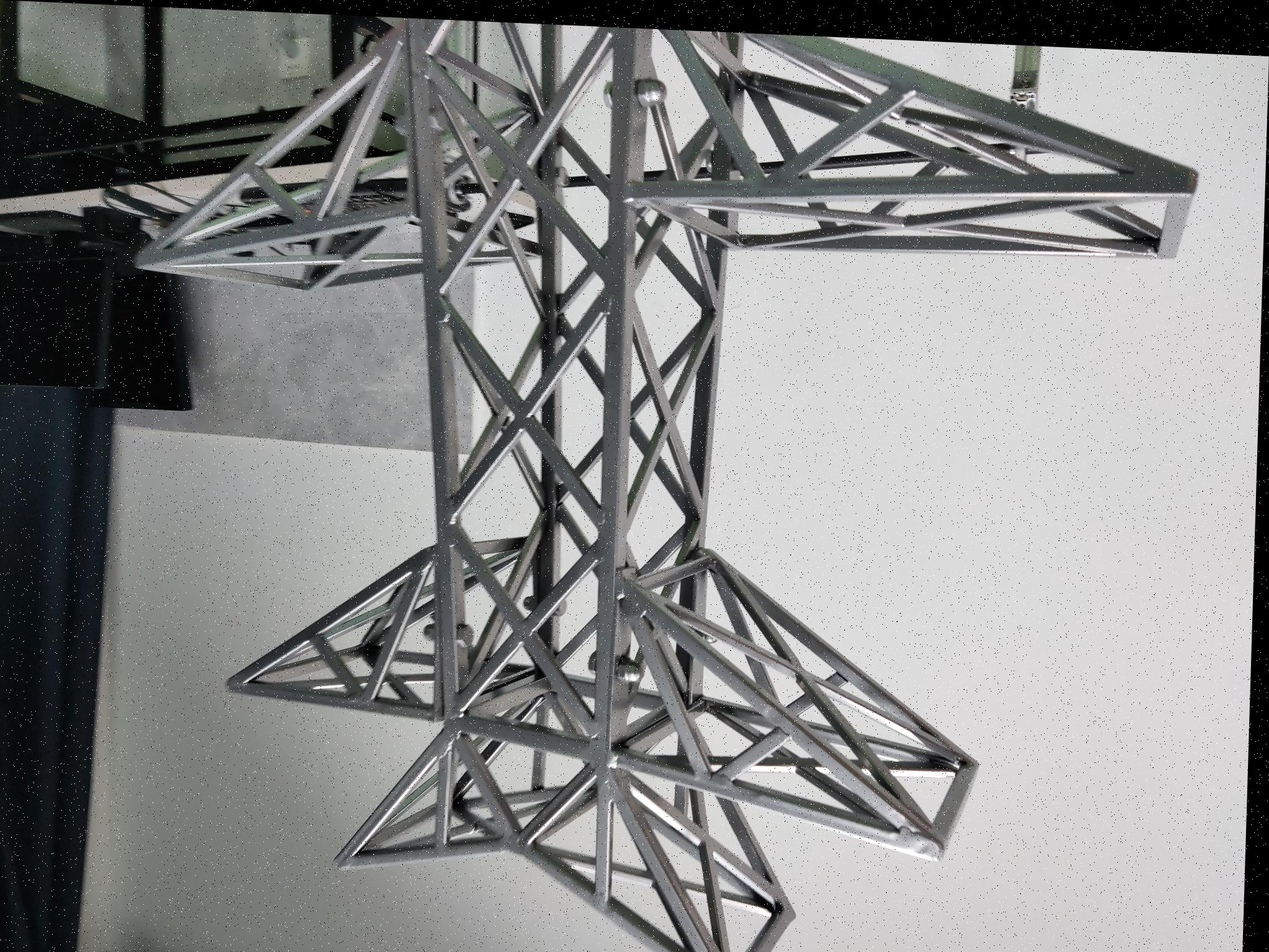tower: (159, 8, 1167, 952)
